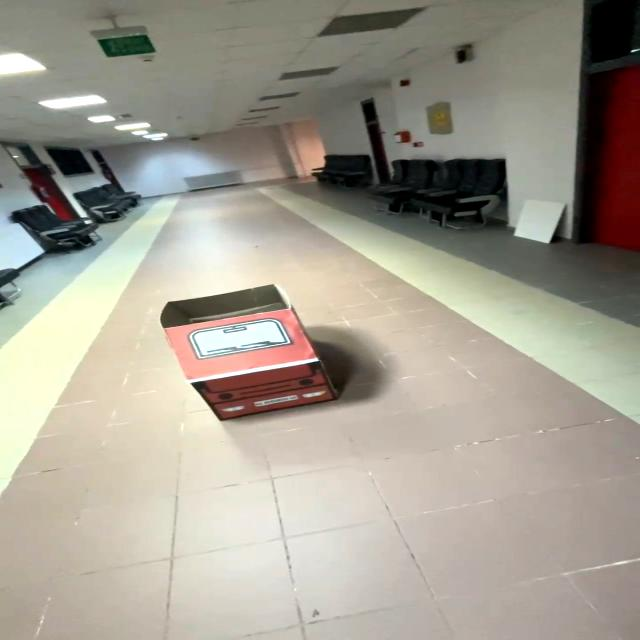red_car: (141, 270, 363, 432)
